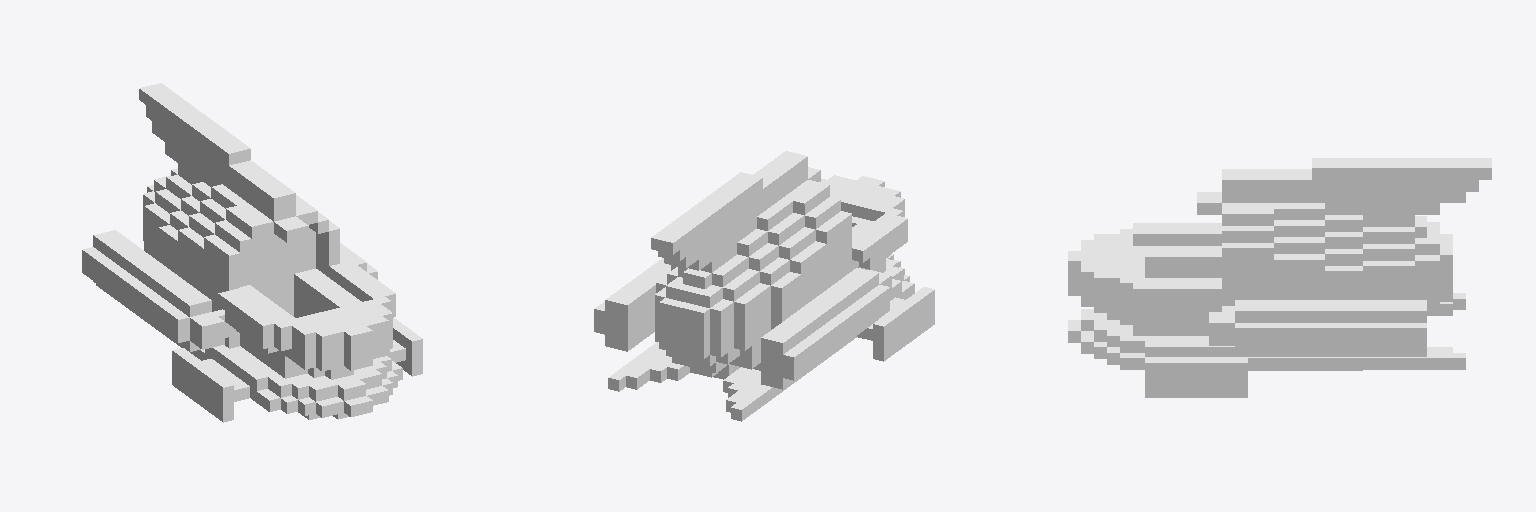
File: BodyPilder.obj
The picture shows the model from 3 angles: view 1: azimuth 30°, elevation 25°; view 2: azimuth 150°, elevation 25°; view 3: azimuth 270°, elevation 25°; orthographic projection.
Parts seen in each view (by area): view 1: BodyPilder; view 2: BodyPilder; view 3: BodyPilder.
Part boxes in pixels (x1,y1,x2,y2): BodyPilder: (82, 83, 422, 422); BodyPilder: (594, 151, 934, 421); BodyPilder: (1068, 158, 1491, 397).
Bounding box in the file's own units: 18 × 16 × 33.